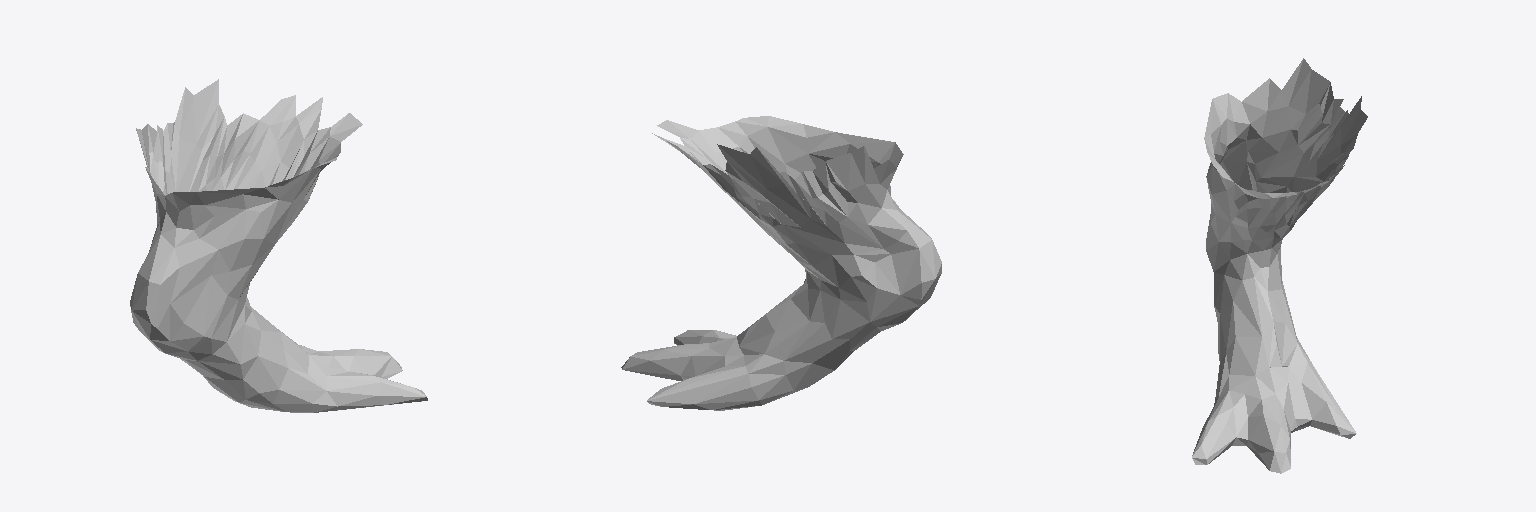
File: pataTrasDerCapi.obj
The picture shows the model from 3 angles: view 1: azimuth 30°, elevation 25°; view 2: azimuth 150°, elevation 25°; view 3: azimuth 270°, elevation 25°; orthographic projection.
Parts seen in each view (by area): view 1: pataTrasDerCapi; view 2: pataTrasDerCapi; view 3: pataTrasDerCapi.
Part boxes in pixels (bbox=[...]): pataTrasDerCapi: bbox=[130, 79, 427, 412]; pataTrasDerCapi: bbox=[621, 116, 941, 410]; pataTrasDerCapi: bbox=[1192, 58, 1367, 473].
Size of the model in its own units: 0.2287 by 0.2194 by 0.1201.